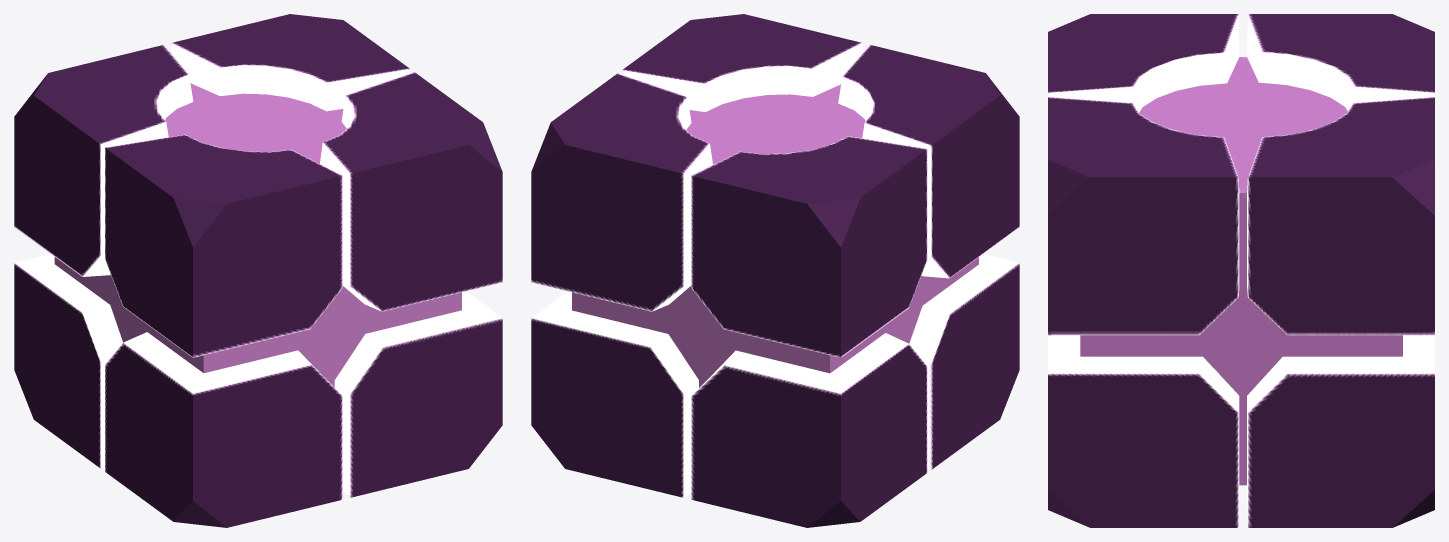
The model's file is CubeHub.fbx.
3 views of the same model, side by side, from view 1: azimuth 30°, elevation 25°; view 2: azimuth 150°, elevation 25°; view 3: azimuth 270°, elevation 25° (orthographic). The views are drawn at different scales.
Parts seen in each view (by area): view 1: Cube.001; view 2: Cube.001; view 3: Cube.001.
Part boxes in pixels (left/top/right/bottom): Cube.001: left=14, top=14, right=502, bottom=527; Cube.001: left=531, top=14, right=1019, bottom=527; Cube.001: left=1048, top=14, right=1434, bottom=527.
Size of the model in its own units: 200 by 200 by 200.
Materials: 1 (1 with a texture image).
